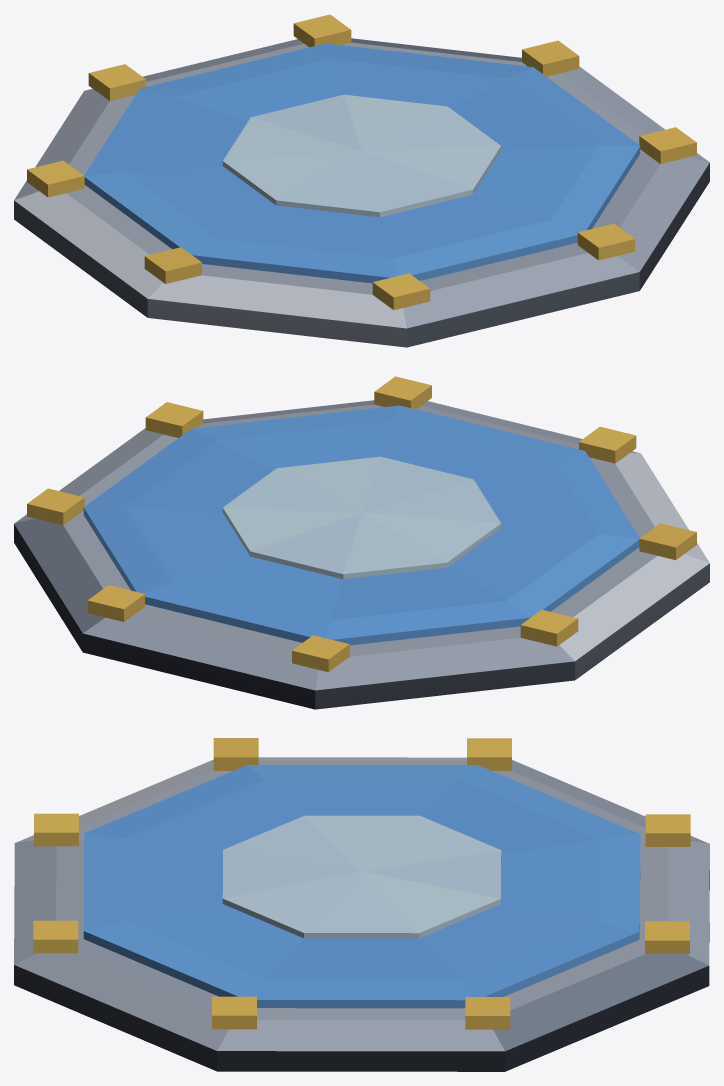
Rendered from teleporter_pad.glb.
3 views of the same model, one above another, from view 1: azimuth 30°, elevation 25°; view 2: azimuth 150°, elevation 25°; view 3: azimuth 270°, elevation 25° (orthographic). The views are drawn at different scales.
Visible parts, largest first — view 1: teleporter_pad; view 2: teleporter_pad; view 3: teleporter_pad.
Boxes of the visible parts, x1,y1,x2,y2 form: teleporter_pad: (14, 14, 709, 347); teleporter_pad: (14, 376, 709, 709); teleporter_pad: (14, 738, 709, 1071).
Bounding box in the file's own units: 0.9249 × 0.078 × 0.9249.
